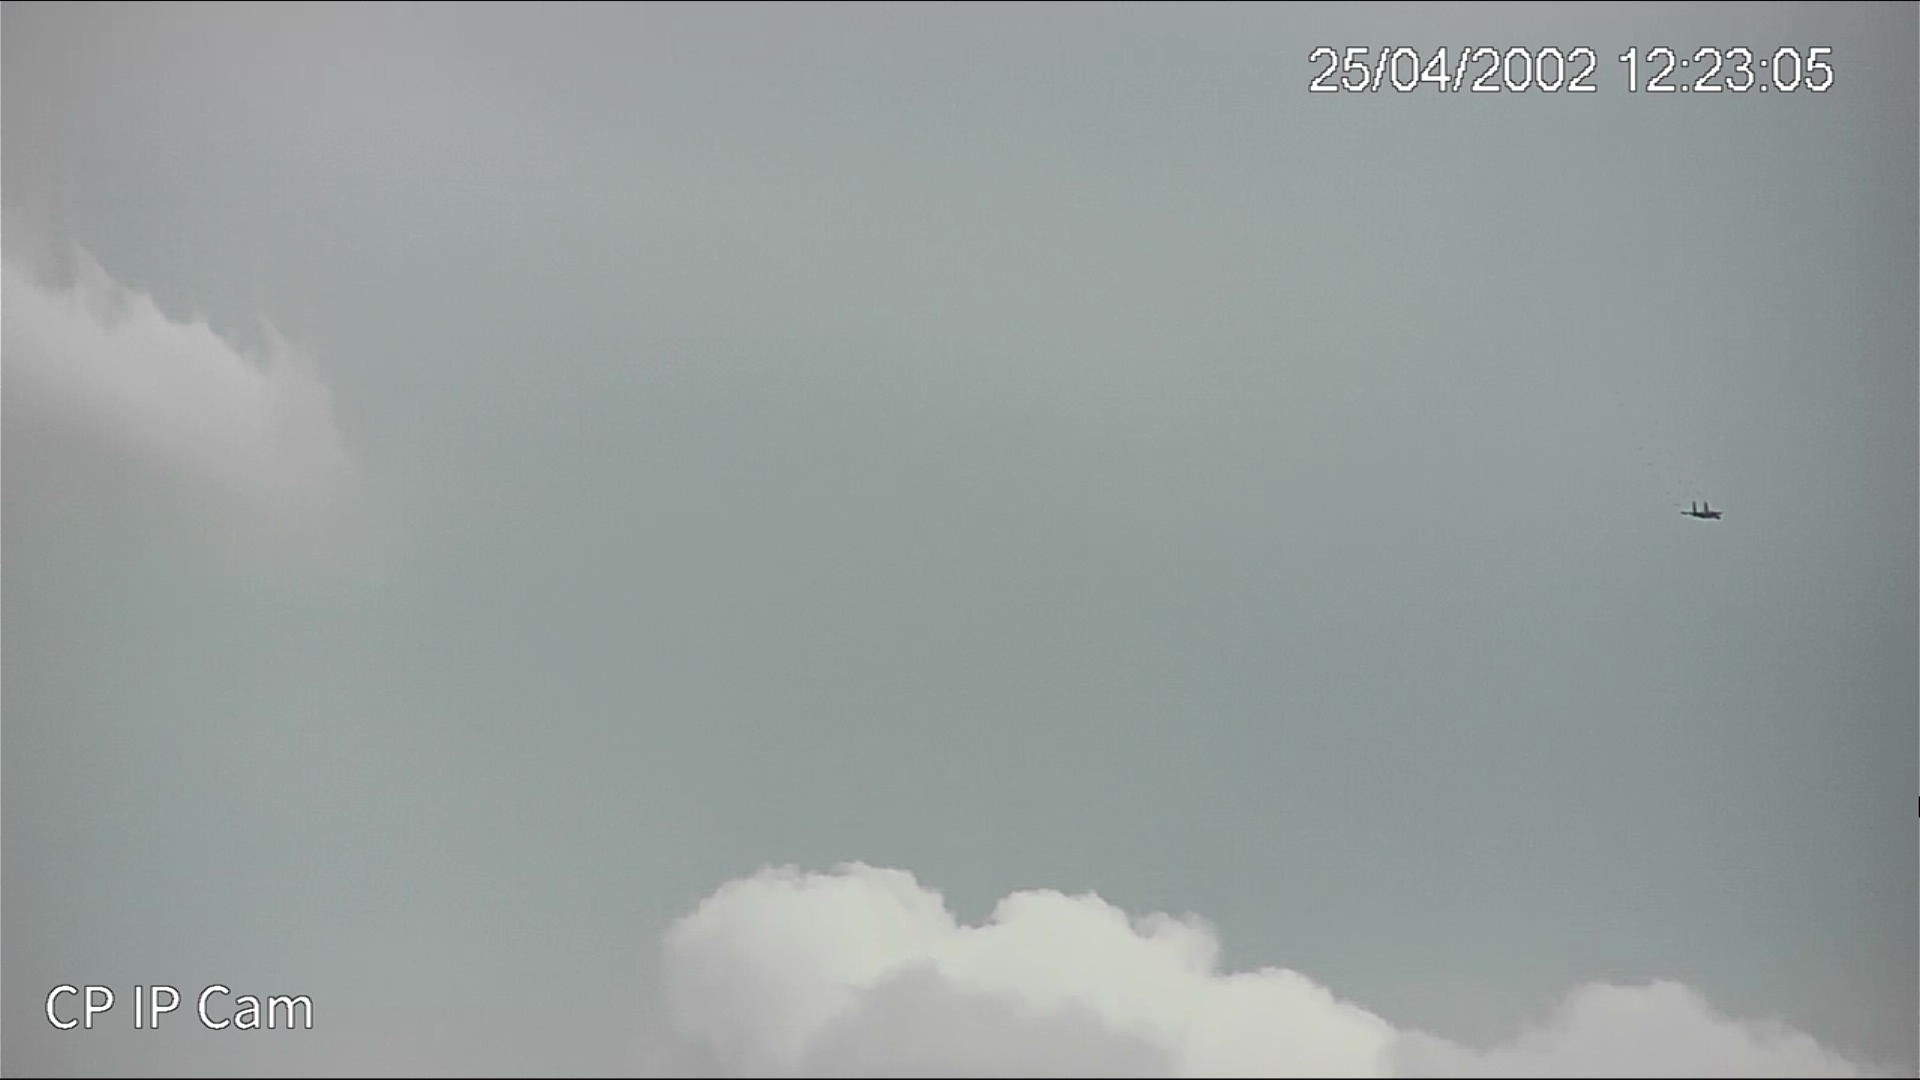SU_30: (1683, 498, 1724, 524)
